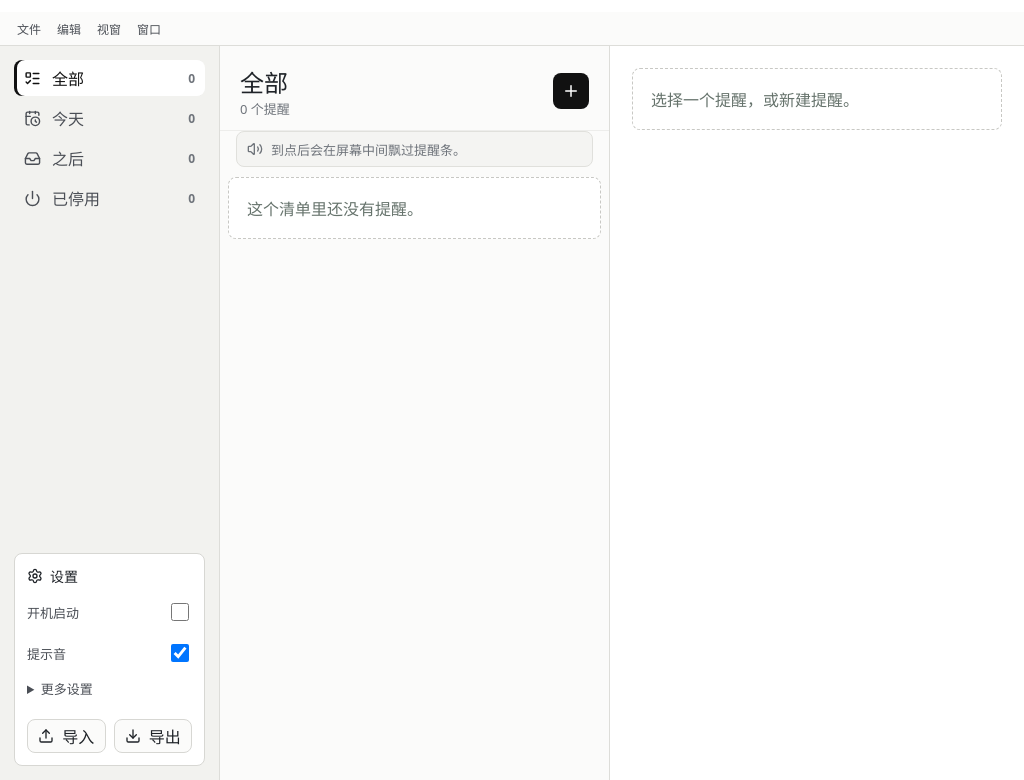
Test: renderer reminder creation › opens an unsaved draft when the plus button is clicked
What coordinates should you click on to do the following:
click the button with class "add-button"
I would click on:
 (571, 91)
Its box is left=553, top=73, right=589, bottom=109.
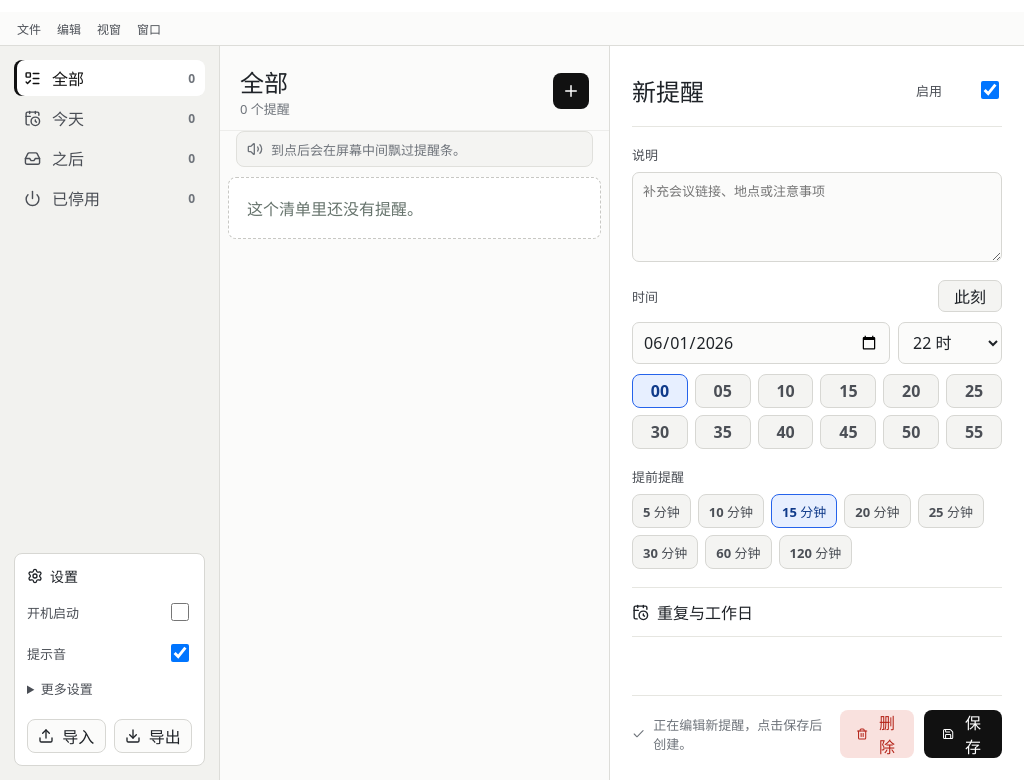
expect the text "0 个提醒" is shown: met, box left=240, top=99, right=290, bottom=118
expect the field with class "title-input" holds "新提醒": met, box left=632, top=68, right=900, bottom=112
expect the text "点击保存后创建" is shown: met, box left=653, top=716, right=822, bottom=753
